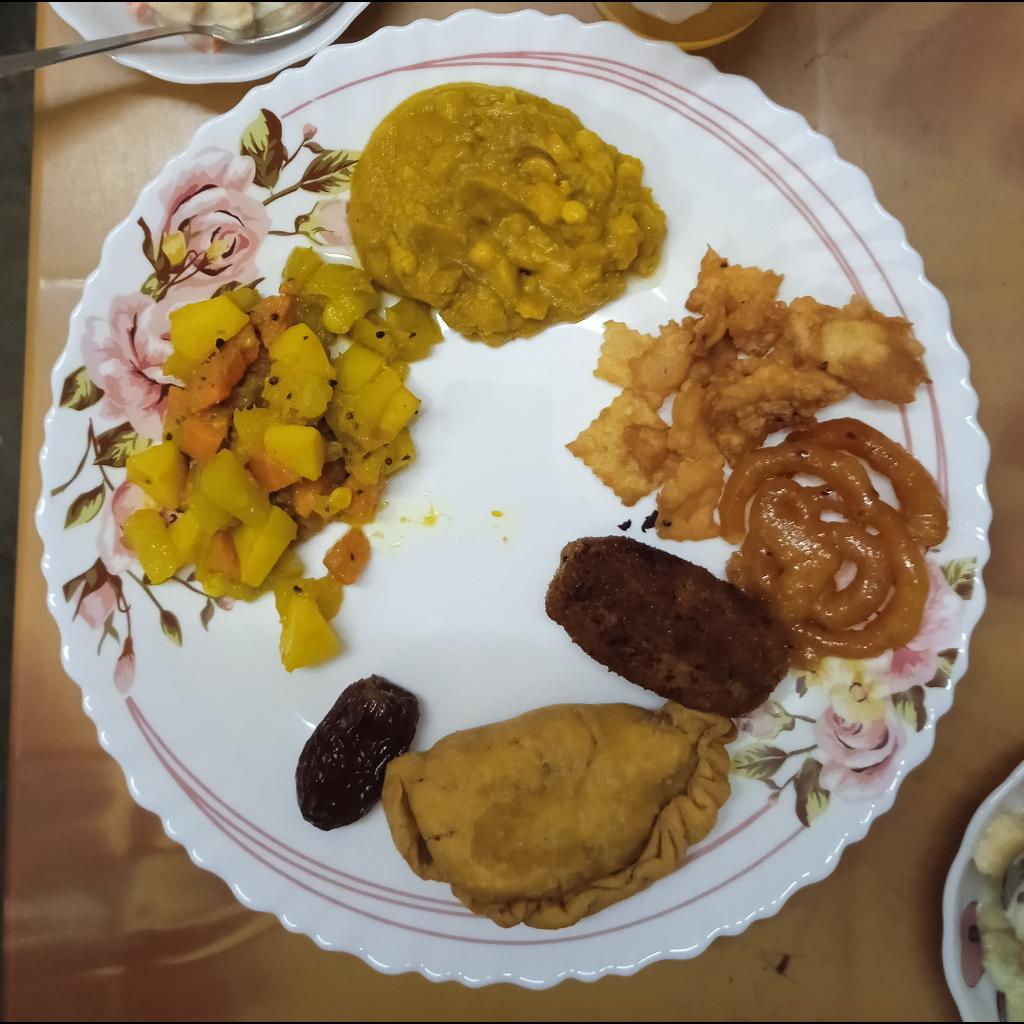chomchom: (567, 245, 935, 542)
chop-alu: (544, 537, 793, 715)
daal: (346, 83, 665, 347)
dates: (297, 676, 421, 832)
jilapi: (718, 417, 949, 671)
salad: (127, 2, 341, 53)
sweets: (382, 701, 742, 935)
vegetable: (119, 249, 445, 671)
